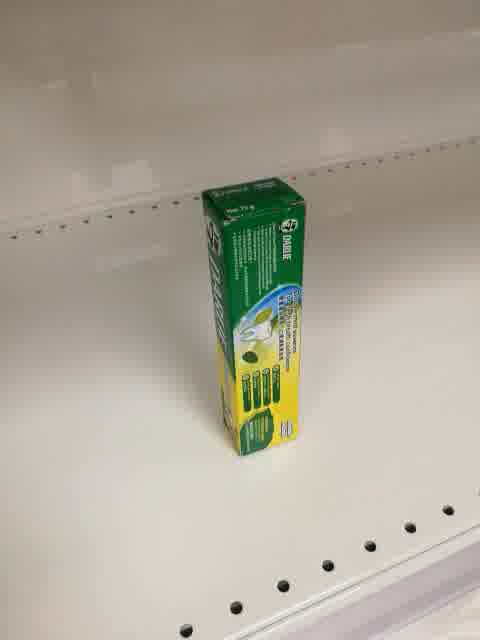toothpaste: (201, 176, 306, 456)
